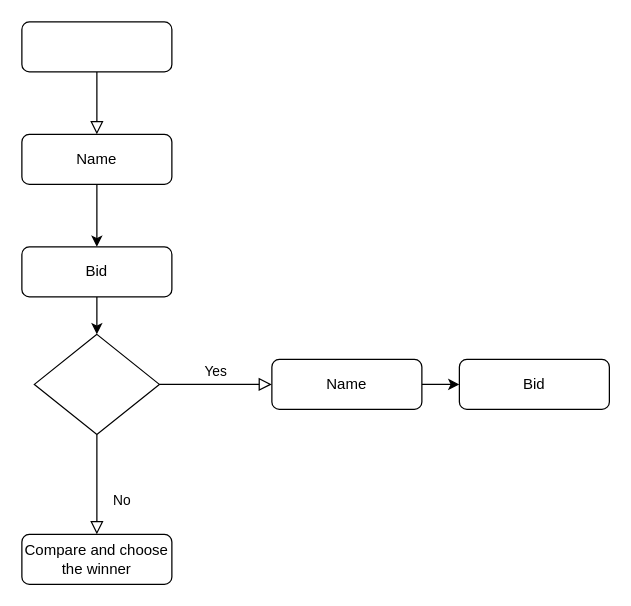
Image size: 631x606. Some labels were removed from this diagram. The box of each missing label's shape, as (x1, y1, x2, y2) in pixels:
Any other Bidders?: (33, 333, 159, 434)
Secret Auction: (21, 21, 172, 72)
